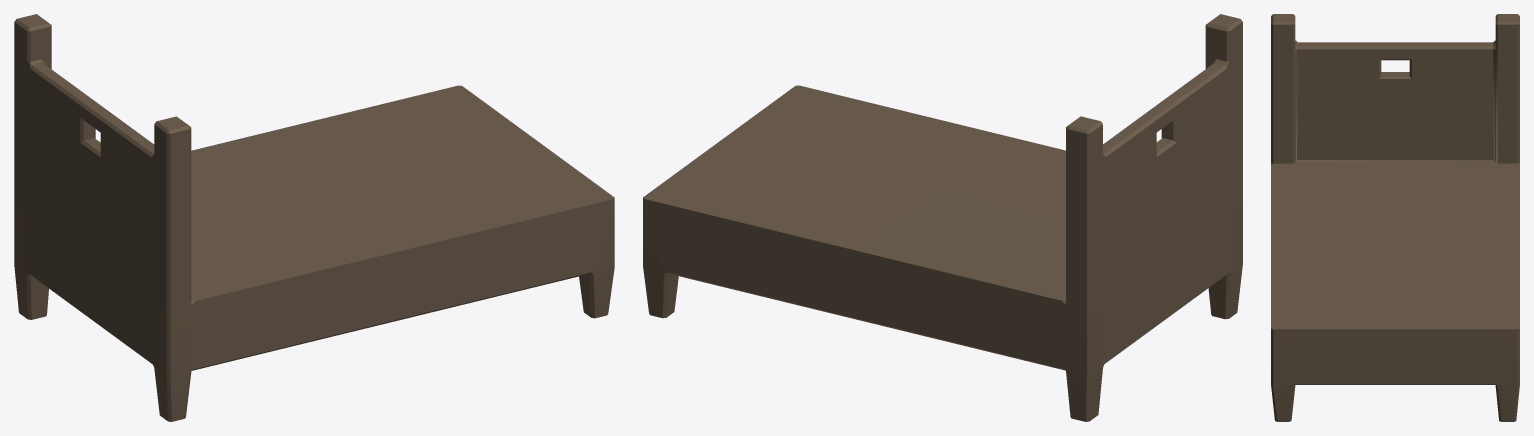
The model's file is bed.fbx.
3 views of the same model, side by side, from view 1: azimuth 30°, elevation 25°; view 2: azimuth 150°, elevation 25°; view 3: azimuth 270°, elevation 25° (orthographic). The views are drawn at different scales.
Parts seen in each view (by area): view 1: SM_Bed; view 2: SM_Bed; view 3: SM_Bed.
Boxes of the visible parts, x1,y1,x2,y2 form: SM_Bed: [14, 14, 614, 421]; SM_Bed: [643, 14, 1242, 421]; SM_Bed: [1271, 14, 1519, 421].
Bounding box in the file's own units: 100 × 62.5 × 60.
